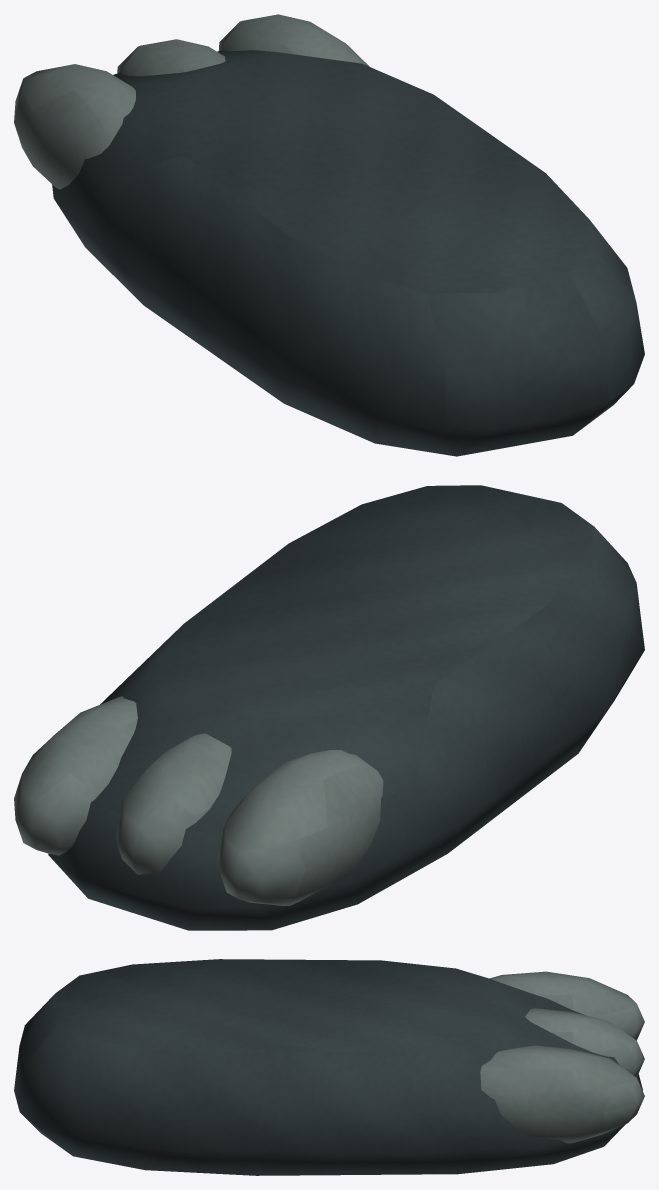
File: foot_l_lod1.glb
The picture shows the model from 3 angles, top to bottom: view 1: azimuth 30°, elevation 25°; view 2: azimuth 150°, elevation 25°; view 3: azimuth 270°, elevation 25°; orthographic projection. The views are drawn at different scales.
Parts seen in each view (by area): view 1: dormin_foot_l_LOD1; view 2: dormin_foot_l_LOD1; view 3: dormin_foot_l_LOD1.
Part boxes in pixels (bbox=[...]): dormin_foot_l_LOD1: bbox=[14, 14, 644, 456]; dormin_foot_l_LOD1: bbox=[14, 485, 644, 930]; dormin_foot_l_LOD1: bbox=[14, 959, 644, 1175].
Bounding box in the file's own units: 1.62 × 0.6904 × 3.45.
2 materials, 2 textured.
